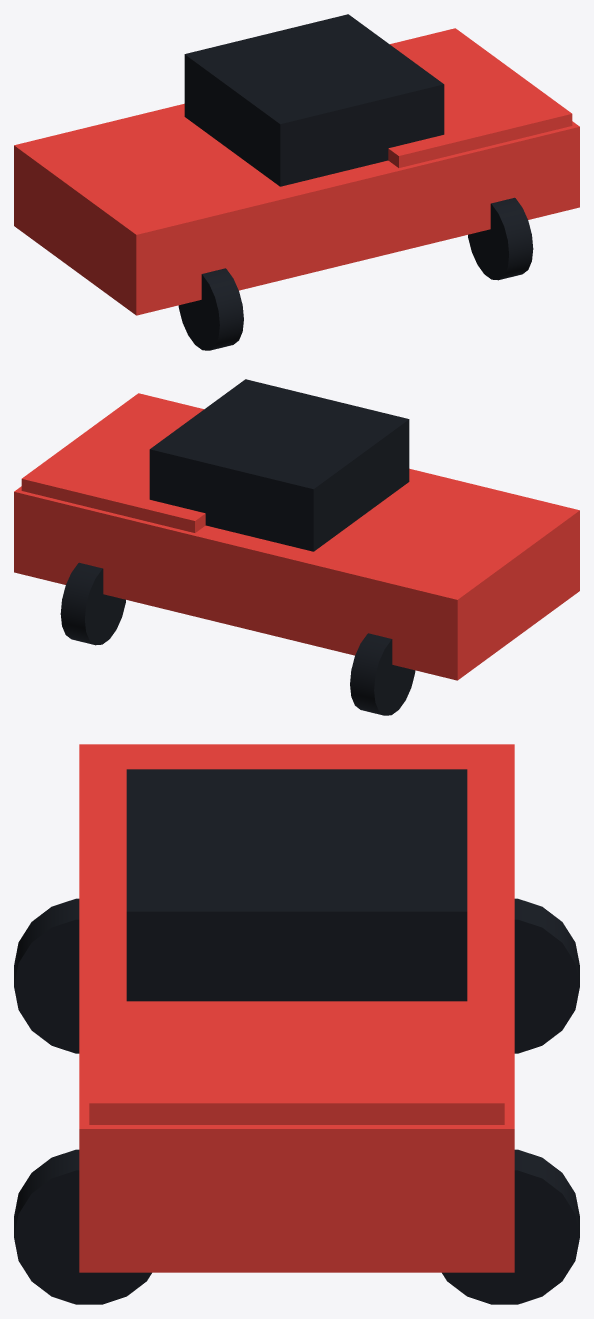
The model's file is sports-car.gltf.
The picture shows the model from 3 angles, top to bottom: view 1: azimuth 30°, elevation 25°; view 2: azimuth 150°, elevation 25°; view 3: azimuth 270°, elevation 25°; orthographic projection. The views are drawn at different scales.
Visible parts, largest first — view 1: Body, Roof, Hood, WheelFL, WheelRL; view 2: Body, Roof, Hood, WheelFR, WheelRR; view 3: Body, Roof, Hood, WheelFL, WheelFR, WheelRL, WheelRR.
Part boxes in pixels (<box>): Body: <box>14,103,579,315</box>; Roof: <box>184,14,444,186</box>; Hood: <box>388,28,572,167</box>; WheelFL: <box>468,197,533,280</box>; WheelRL: <box>178,268,243,350</box>; Body: <box>14,468,579,680</box>; Roof: <box>149,379,409,551</box>; Hood: <box>21,393,205,532</box>; WheelFR: <box>60,562,125,645</box>; WheelRR: <box>350,633,415,715</box>; Body: <box>79,744,514,1272</box>; Roof: <box>126,769,467,1001</box>; Hood: <box>89,952,504,1124</box>; WheelFL: <box>14,1149,151,1304</box>; WheelFR: <box>442,1149,579,1304</box>; WheelRL: <box>14,898,79,1053</box>; WheelRR: <box>514,898,579,1053</box>.
Bounding box in the file's own units: 4.6 × 1.91 × 2.86.
